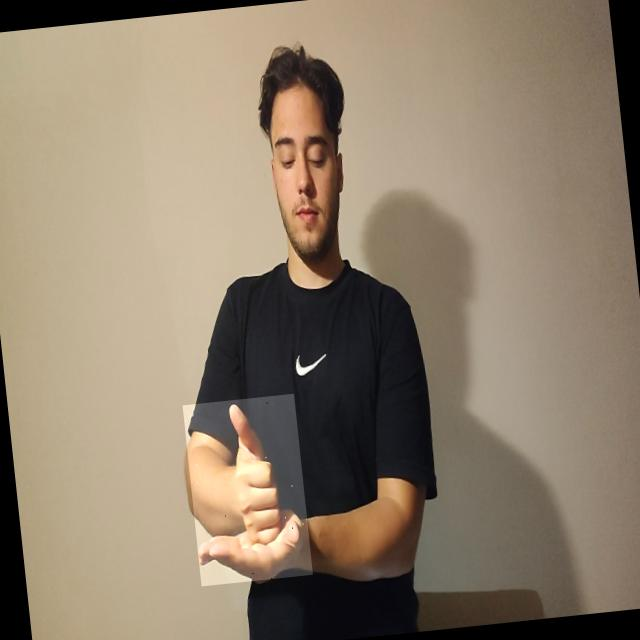help: (182, 393, 312, 586)
